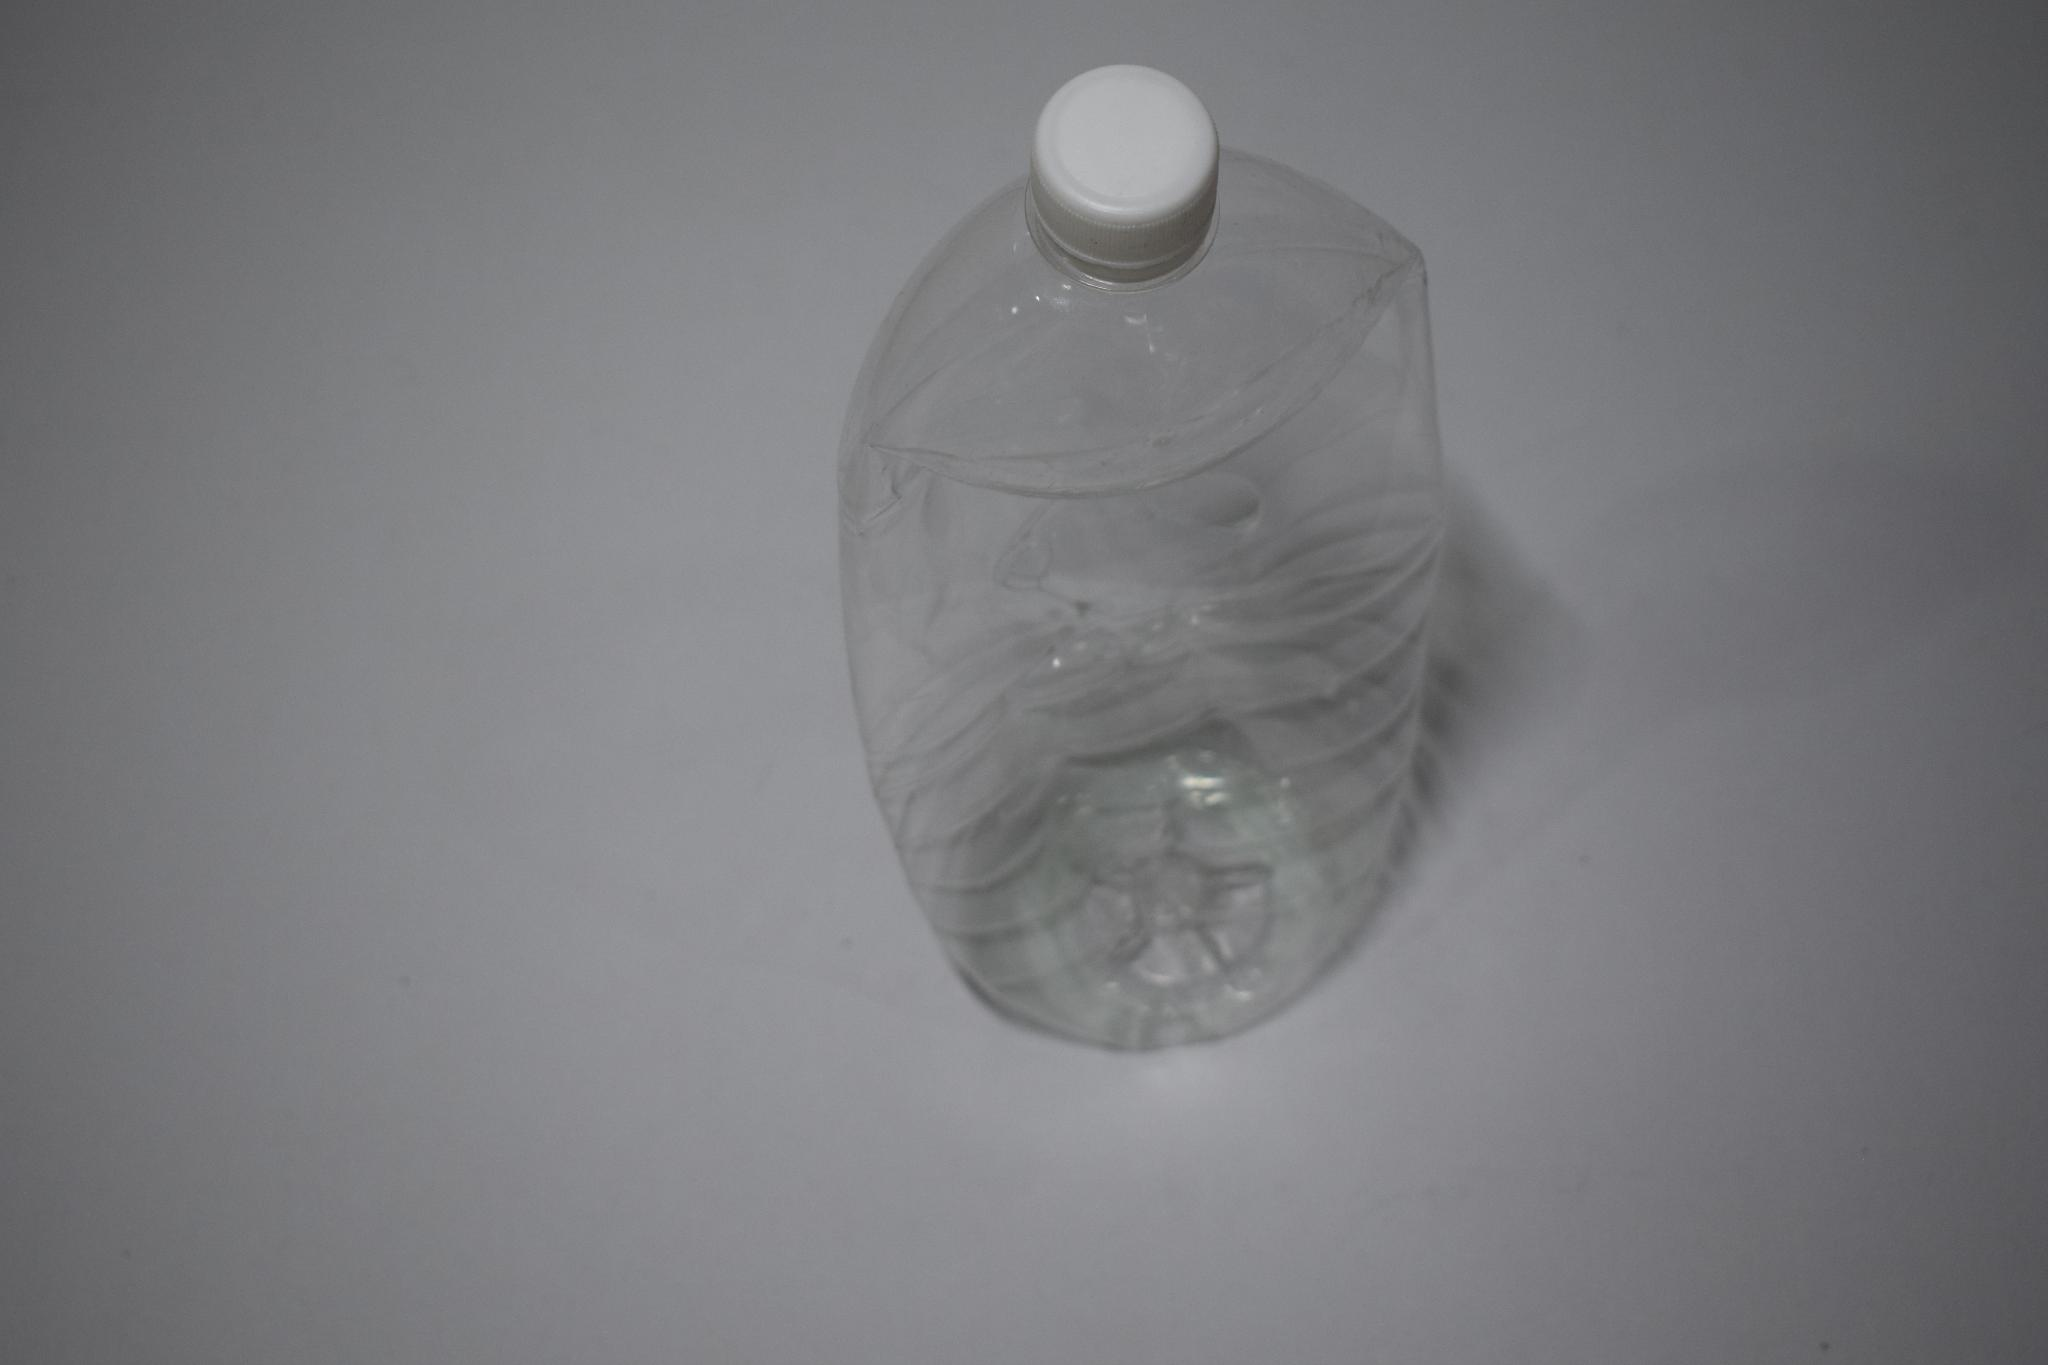bottle: (825, 84, 1465, 1080)
